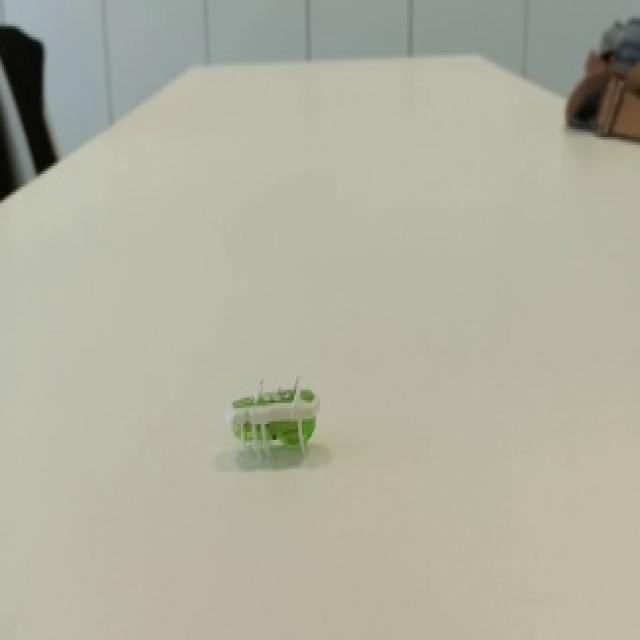4_NanoBug_Blanco: (185, 347, 360, 491)
